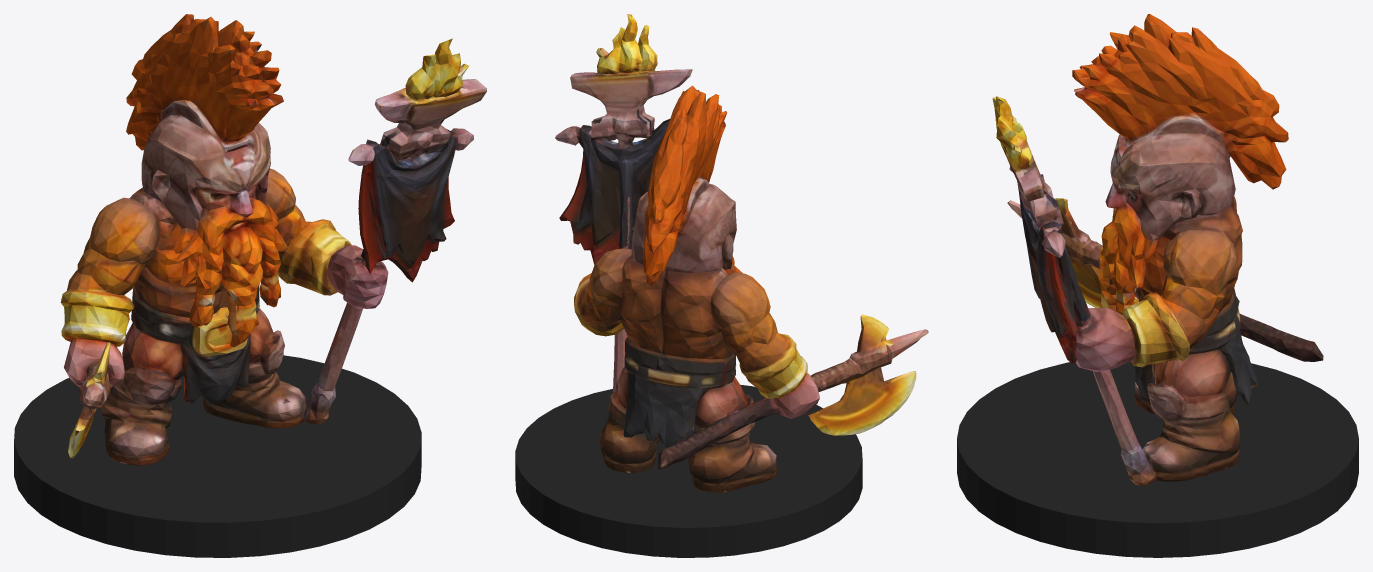
The model's file is fyr-battlesmith.glb.
3 renders of one model, left to right at view 1: azimuth 30°, elevation 25°; view 2: azimuth 150°, elevation 25°; view 3: azimuth 270°, elevation 25°, orthographic. The views are drawn at different scales.
Visible parts, largest first — view 1: figure, base; view 2: figure, base; view 3: figure, base.
Part boxes in pixels (<box>): figure: <box>60,14,486,465</box>; base: <box>14,355,421,557</box>; figure: <box>555,14,928,492</box>; base: <box>515,384,862,557</box>; figure: <box>992,14,1323,485</box>; base: <box>957,361,1358,557</box>.
Bounding box in the file's own units: 1.47 × 1.57 × 1.26.
2 materials, 1 textured.
